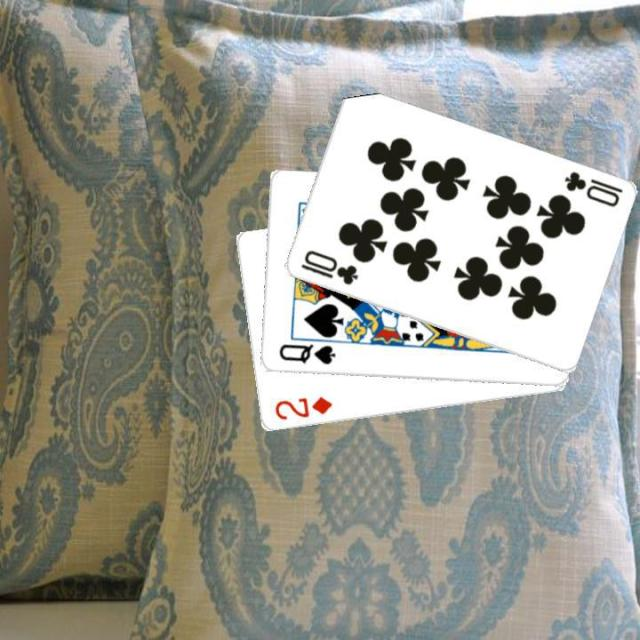10C: (560, 167, 624, 209), (296, 246, 360, 287)
2D: (270, 393, 334, 422)
QS: (275, 341, 337, 367)
